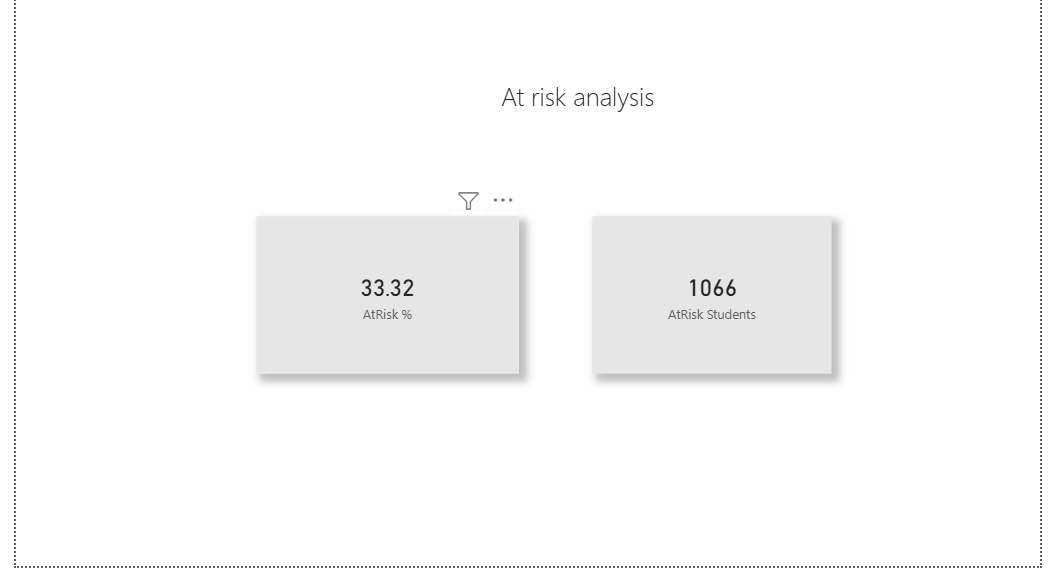

Layout of this report page (visuals, bound fields, positions):
{"tool":"powerbi","page":{"name":"At risk","canvas":[1280,720],"ordinal":3},"visuals":[{"type":"card","fields":{"Values":["StudentData.AtRisk %"]},"box":[299.6,282.5,328.9,196.9],"z":0},{"type":"card","fields":{"Values":["StudentData.AtRisk Students"]},"box":[720.2,282.5,299.6,196.9],"z":1000},{"type":"textbox","box":[341.2,106.4,678.7,66],"z":2000}]}

Visuals, with their boxes in screenshot pixels (x1, y1, x2, y2), scaled from the page's 1280x720 canvas onto the 1058x585 screenshot:
card - StudentData.AtRisk %: locate(248, 230, 519, 390)
card - StudentData.AtRisk Students: locate(595, 230, 843, 390)
textbox: locate(282, 86, 843, 140)
